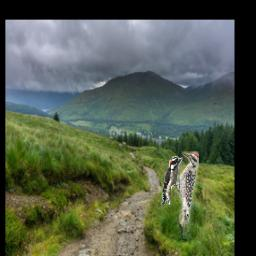Woodpecker: (177, 151, 199, 239), (161, 156, 183, 205)
